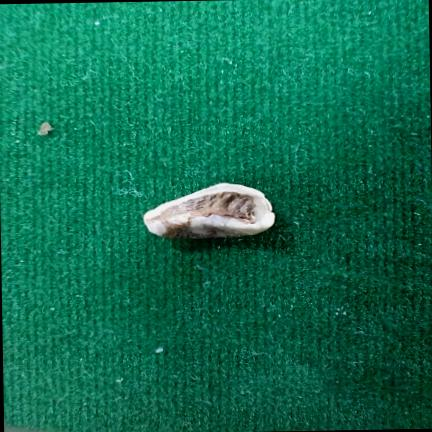shell: (143, 183, 275, 238)
